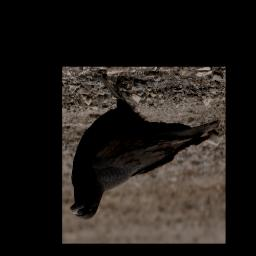Crow: (70, 73, 221, 221)
